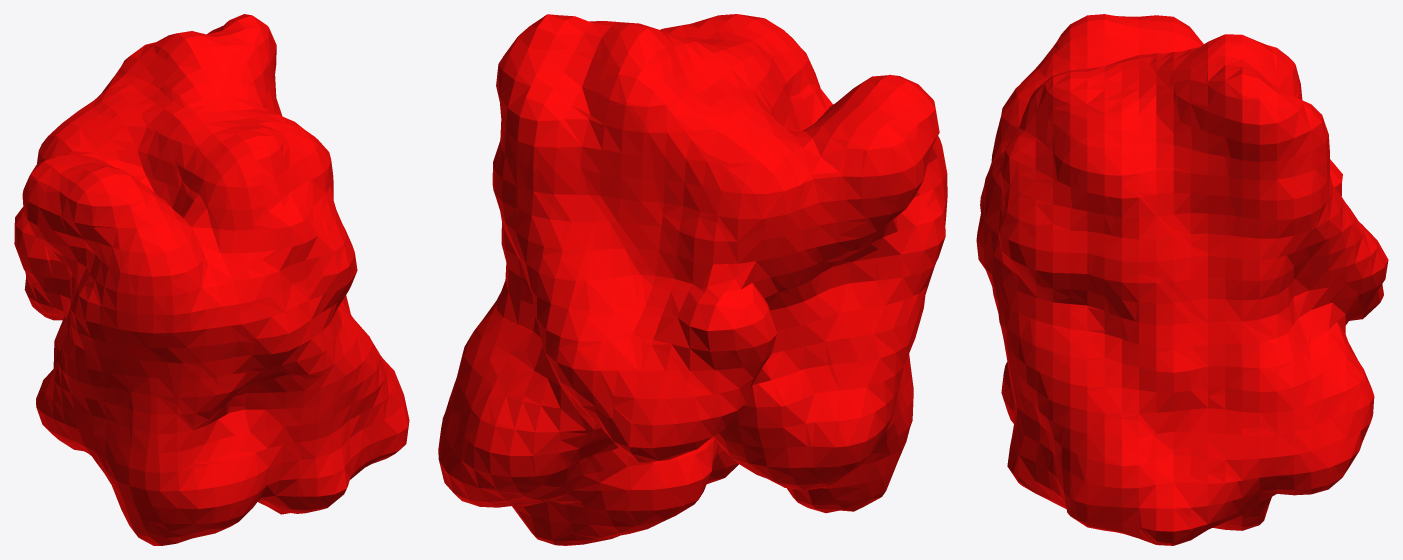
File: tnaB_coarse.dae
3 views of the same model, side by side, from view 1: azimuth 30°, elevation 25°; view 2: azimuth 150°, elevation 25°; view 3: azimuth 270°, elevation 25° (orthographic). The views are drawn at different scales.
Visible parts, largest first — view 1: tnaB; view 2: tnaB; view 3: tnaB.
Part boxes in pixels (x1,y1,x2,y2): tnaB: [14, 14, 409, 545]; tnaB: [438, 14, 947, 545]; tnaB: [976, 14, 1388, 545].
Size of the model in its own units: 56.41 by 65.28 by 52.88.
